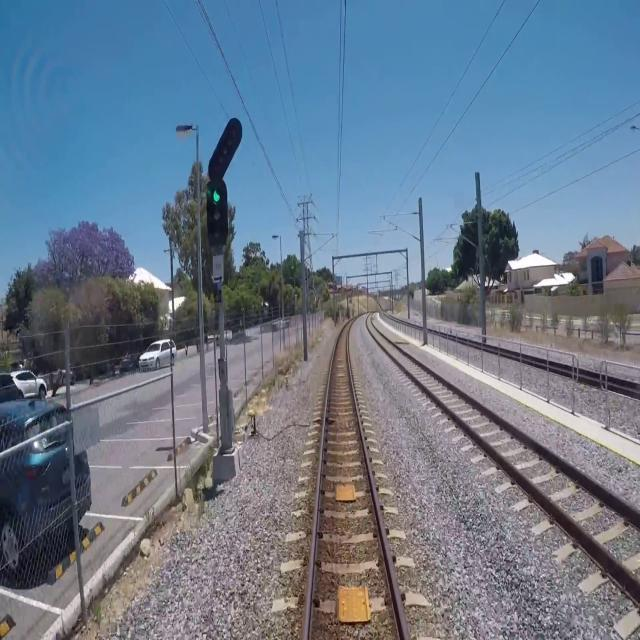rail-track: (367, 316, 640, 577), (308, 322, 404, 639)
